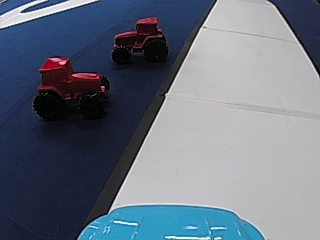Tracktor: (28, 58, 115, 127), (112, 15, 171, 64)
